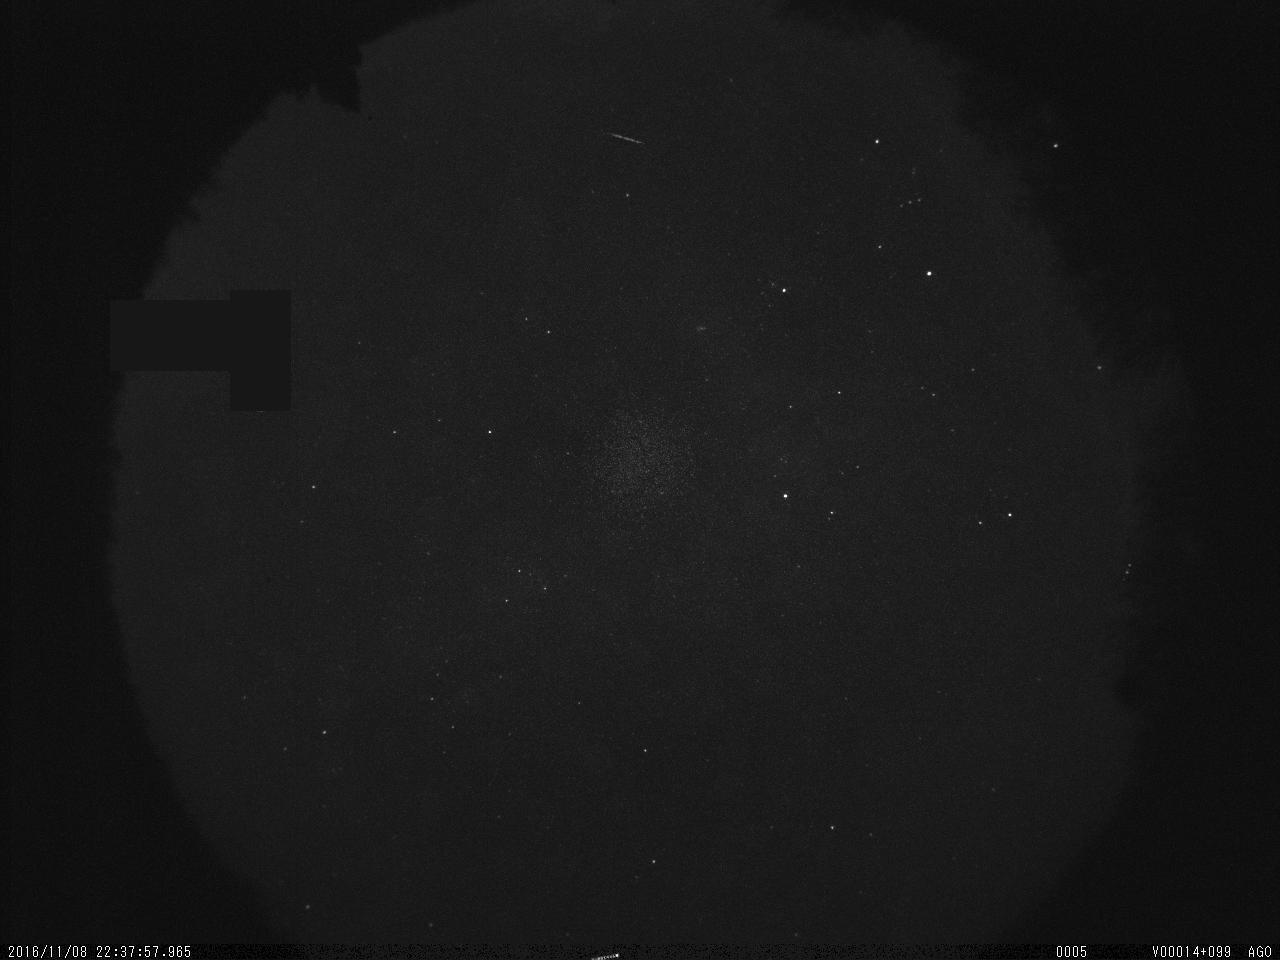meteor: (601, 116, 653, 166)
